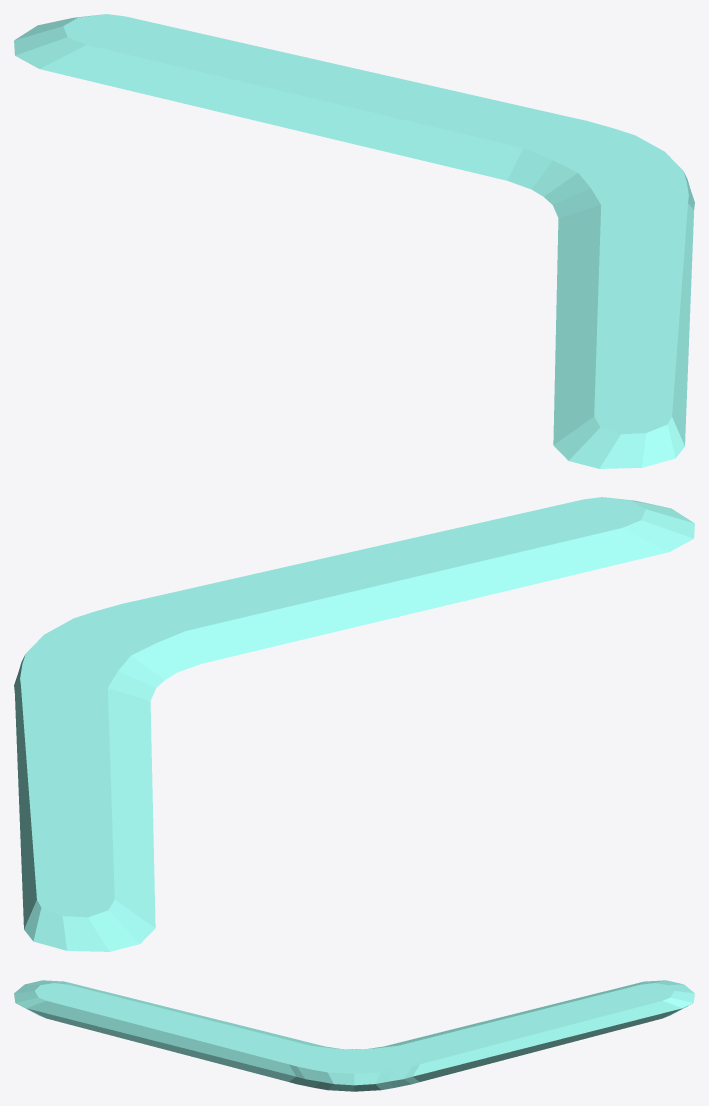
Rendered from Boomerang.fbx.
3 renders of one model, top to bottom at view 1: azimuth 30°, elevation 25°; view 2: azimuth 150°, elevation 25°; view 3: azimuth 270°, elevation 25°, orthographic. The views are drawn at different scales.
Visible parts, largest first — view 1: Circle; view 2: Circle; view 3: Circle.
Boxes of the visible parts, x1=… form: Circle: x1=14, y1=14, x2=694, y2=468; Circle: x1=14, y1=497, x2=694, y2=951; Circle: x1=14, y1=980, x2=694, y2=1091.
Bounding box in the file's own units: 78.42 × 6.2 × 215.
